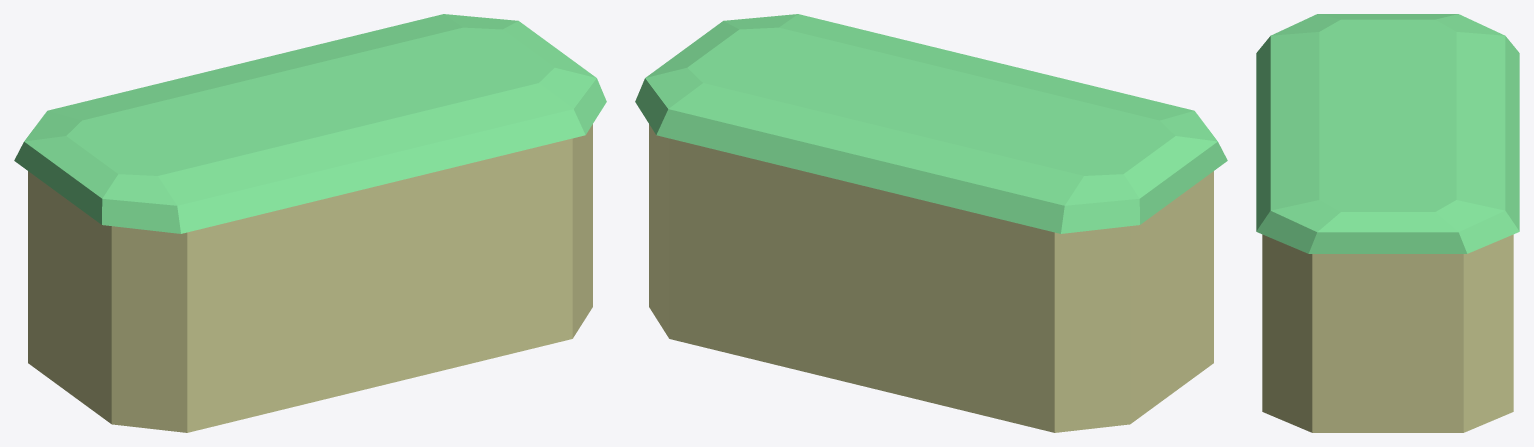
Rendered from junkbox_large.gltf.
3 renders of one model, left to right at view 1: azimuth 30°, elevation 25°; view 2: azimuth 150°, elevation 25°; view 3: azimuth 270°, elevation 25°, orthographic. The views are drawn at different scales.
Visible parts, largest first — view 1: JunkboxLarge; view 2: JunkboxLarge; view 3: JunkboxLarge.
Boxes of the visible parts, bbox=[...] form: JunkboxLarge: bbox=[14, 14, 606, 432]; JunkboxLarge: bbox=[635, 14, 1227, 432]; JunkboxLarge: bbox=[1256, 14, 1519, 432].
Bounding box in the file's own units: 3.15 × 1.39 × 1.57.
